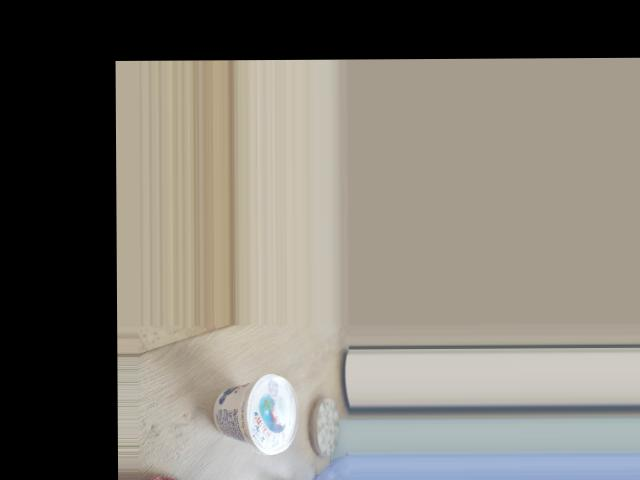cotage: (199, 371, 300, 441)
